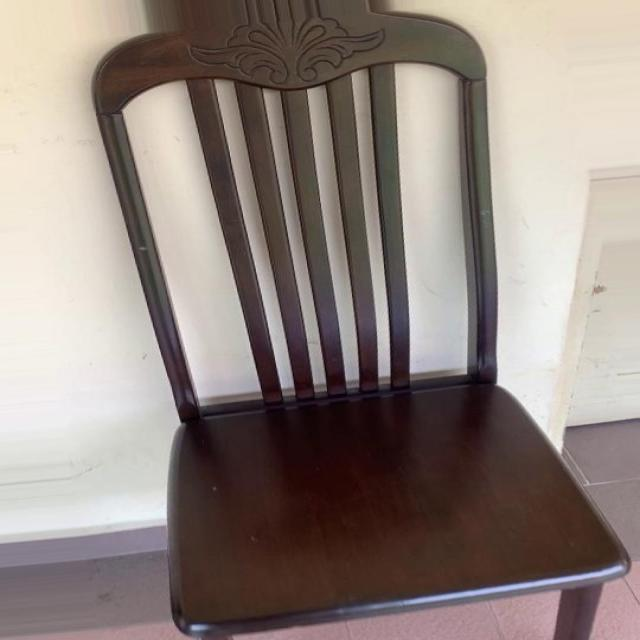chair: (85, 3, 640, 640)
